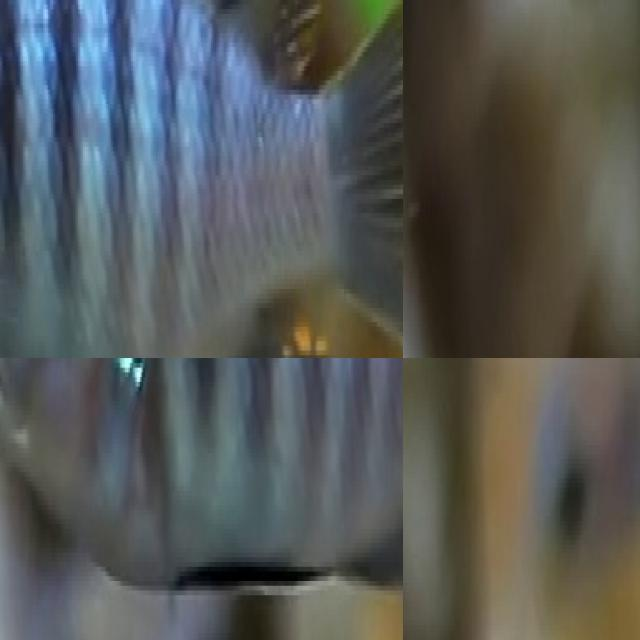fish: (0, 0, 403, 358), (0, 358, 403, 640)
